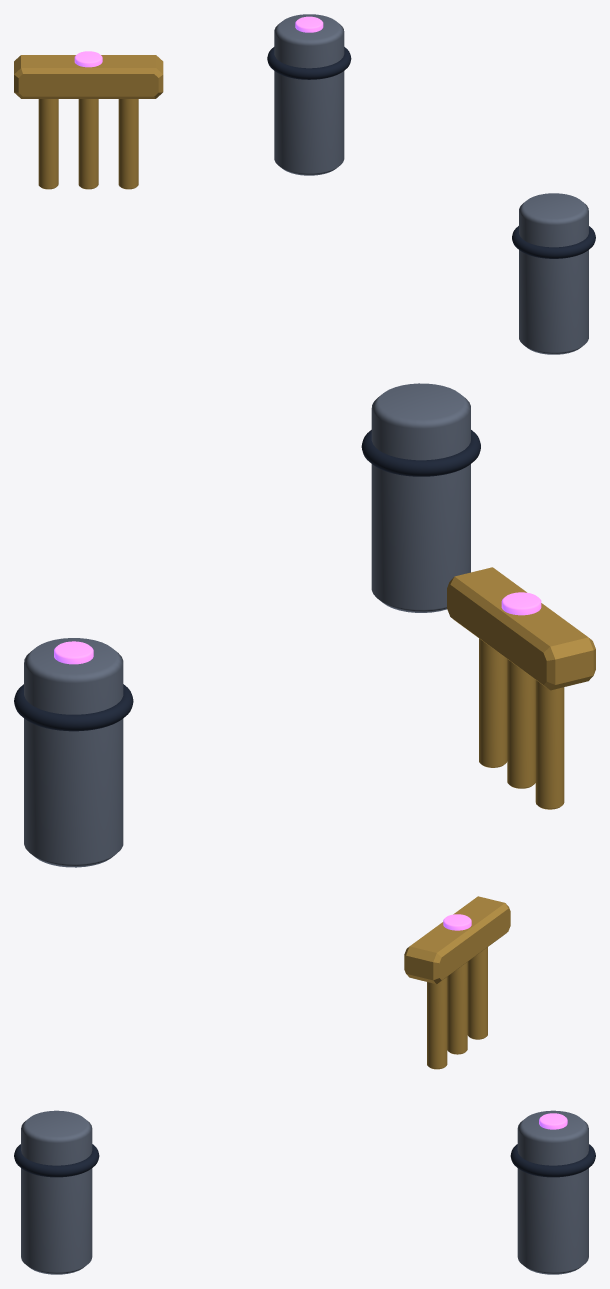
The model's file is tower_singularity_rate_s3.glb.
The picture shows the model from 3 angles, top to bottom: view 1: azimuth 30°, elevation 25°; view 2: azimuth 150°, elevation 25°; view 3: azimuth 270°, elevation 25°; orthographic projection. The views are drawn at different scales.
Parts seen in each view (by area): view 1: singularity_stem_cap4.363323129985824, singularity_stem_cap1.9198621771937625, singularity_manifold_header, singularity_manifold_pipe0.08, singularity_manifold_pipe-0.08, singularity_manifold_pipe0, singularity_stem_cap_rib1.9198621771937625, singularity_stem_cap_rib4.363323129985824; view 2: singularity_stem_cap4.363323129985824, singularity_stem_cap1.9198621771937625, singularity_manifold_header, singularity_manifold_pipe0.08, singularity_manifold_pipe0, singularity_manifold_pipe-0.08, singularity_stem_cap_rib1.9198621771937625, singularity_stem_cap_rib4.363323129985824, singularity_up_rate_l3_stud, singularity_up_rate_l2_stud; view 3: singularity_stem_cap4.363323129985824, singularity_stem_cap1.9198621771937625, singularity_manifold_header, singularity_manifold_pipe-0.08, singularity_manifold_pipe0, singularity_manifold_pipe0.08, singularity_stem_cap_rib1.9198621771937625, singularity_stem_cap_rib4.363323129985824.
Part boxes in pixels (box(x1,y1,x2,y2)): singularity_stem_cap4.363323129985824: box(519, 193, 588, 354); singularity_stem_cap1.9198621771937625: box(274, 14, 344, 175); singularity_manifold_header: box(14, 55, 163, 98); singularity_manifold_pipe0.08: box(38, 99, 58, 189); singularity_manifold_pipe-0.08: box(118, 99, 138, 189); singularity_manifold_pipe0: box(78, 99, 98, 189); singularity_stem_cap_rib1.9198621771937625: box(267, 47, 351, 79); singularity_stem_cap_rib4.363323129985824: box(512, 226, 595, 258); singularity_stem_cap4.363323129985824: box(371, 383, 470, 612); singularity_stem_cap1.9198621771937625: box(24, 638, 123, 867); singularity_manifold_header: box(447, 567, 595, 690); singularity_manifold_pipe0.08: box(535, 680, 564, 809); singularity_manifold_pipe0: box(507, 659, 535, 788); singularity_manifold_pipe-0.08: box(479, 638, 507, 767); singularity_stem_cap_rib1.9198621771937625: box(14, 684, 133, 731); singularity_stem_cap_rib4.363323129985824: box(361, 430, 480, 476); singularity_up_rate_l3_stud: box(501, 592, 541, 615); singularity_up_rate_l2_stud: box(54, 641, 93, 664); singularity_stem_cap4.363323129985824: box(21, 1110, 92, 1274); singularity_stem_cap1.9198621771937625: box(517, 1110, 588, 1274); singularity_manifold_header: box(404, 896, 510, 984); singularity_manifold_pipe-0.08: box(427, 977, 447, 1069); singularity_manifold_pipe0: box(447, 962, 467, 1054); singularity_manifold_pipe0.08: box(467, 947, 487, 1039); singularity_stem_cap_rib1.9198621771937625: box(510, 1144, 595, 1177); singularity_stem_cap_rib4.363323129985824: box(14, 1144, 99, 1177).
Size of the model in its own units: 0.8464 by 0.455 by 1.15.
